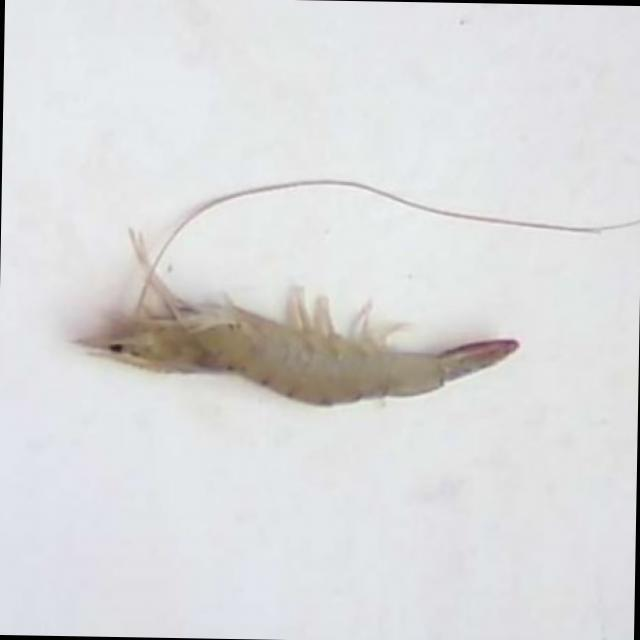shrimp: (77, 231, 519, 405)
